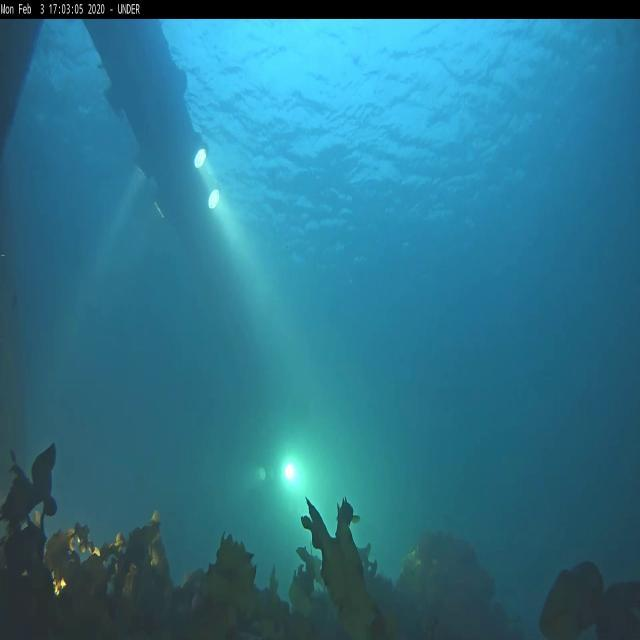fish: (337, 495, 360, 525)
